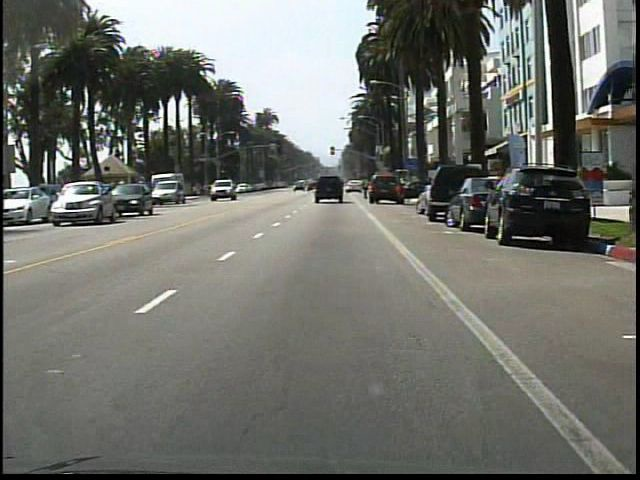person: (360, 173, 372, 202)
